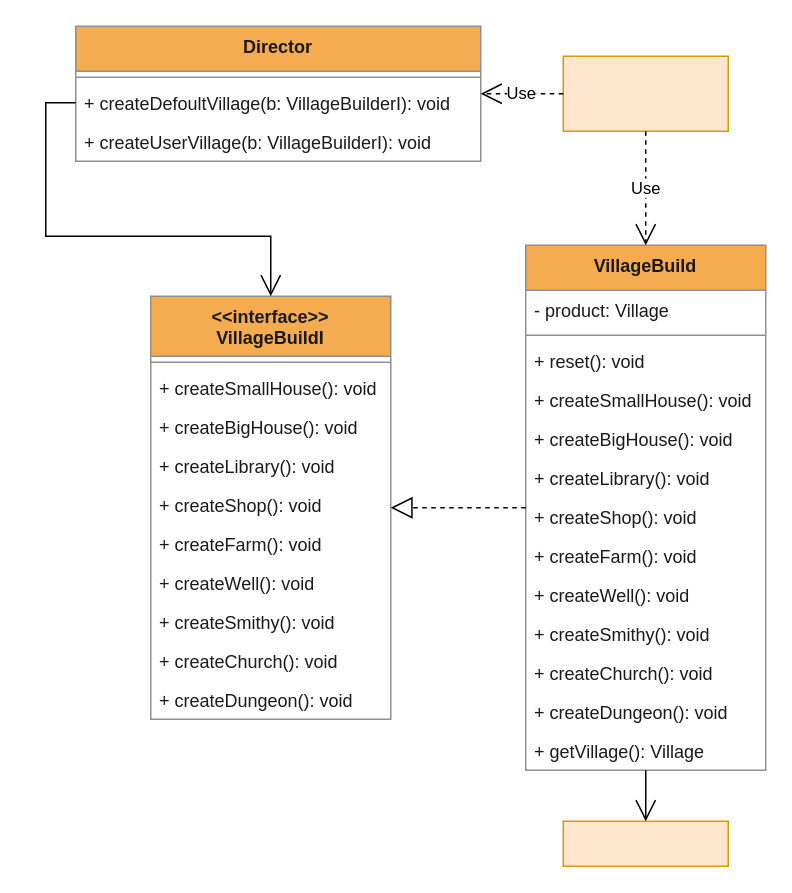
This 792x893 diagram has some shape labels left out. Here are the shapes that lost their labels. From the top down, the centre of each, then its label:
At point 645,93: "Client".
At point 645,843: "Village".
